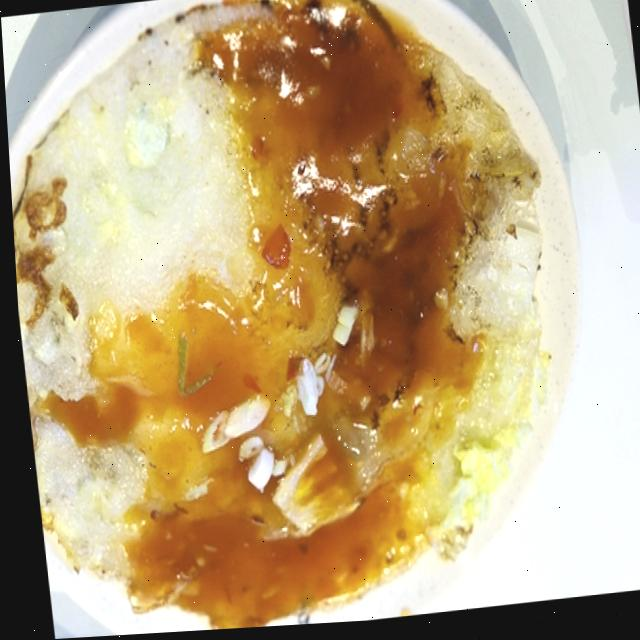熟制海鲜: (0, 0, 607, 640)
